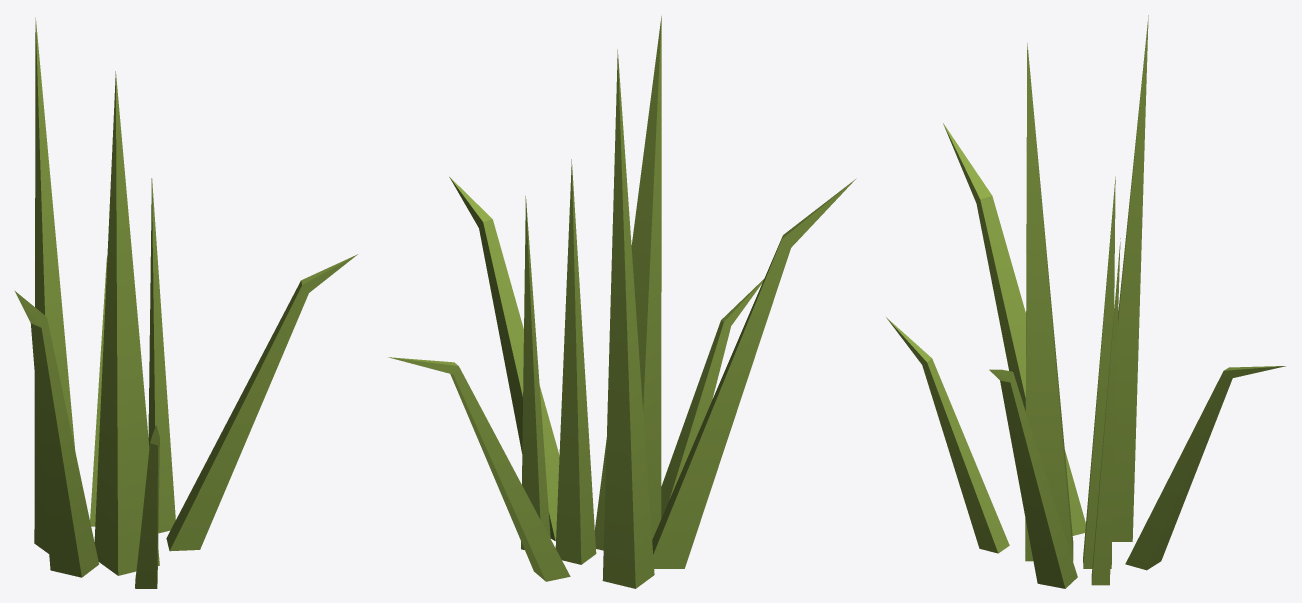
File: grass_01.glb
The picture shows the model from 3 angles, left to right: view 1: azimuth 30°, elevation 25°; view 2: azimuth 150°, elevation 25°; view 3: azimuth 270°, elevation 25°; orthographic projection. The views are drawn at different scales.
Visible parts, largest first — view 1: Spring_Grass_01_LOD1; view 2: Spring_Grass_01_LOD1; view 3: Spring_Grass_01_LOD1.
Part boxes in pixels (<box>): Spring_Grass_01_LOD1: <box>14,17,357,588</box>; Spring_Grass_01_LOD1: <box>388,16,856,588</box>; Spring_Grass_01_LOD1: <box>886,15,1285,588</box>.
Bounding box in the file's own units: 0.4749 × 0.6435 × 0.4538.
Materials: 1 (1 with a texture image).
